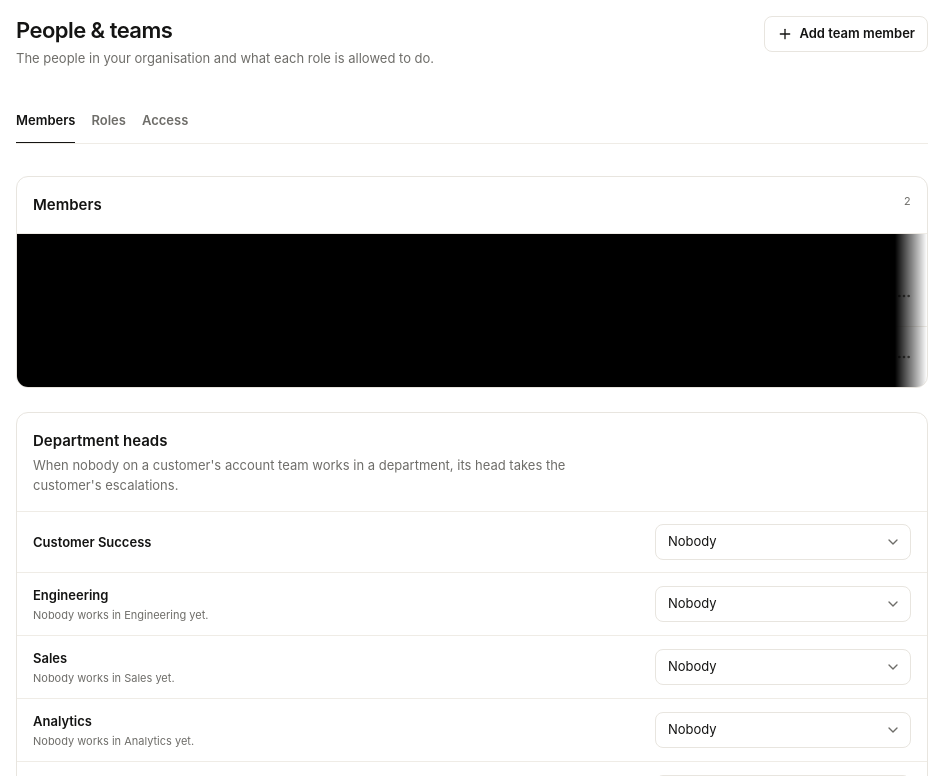
Test: UserManagement page › switches Members, Roles and Access with tabs under the heading
Click the tab "Roles". click: click(109, 122)
box: [92,100,126,144]
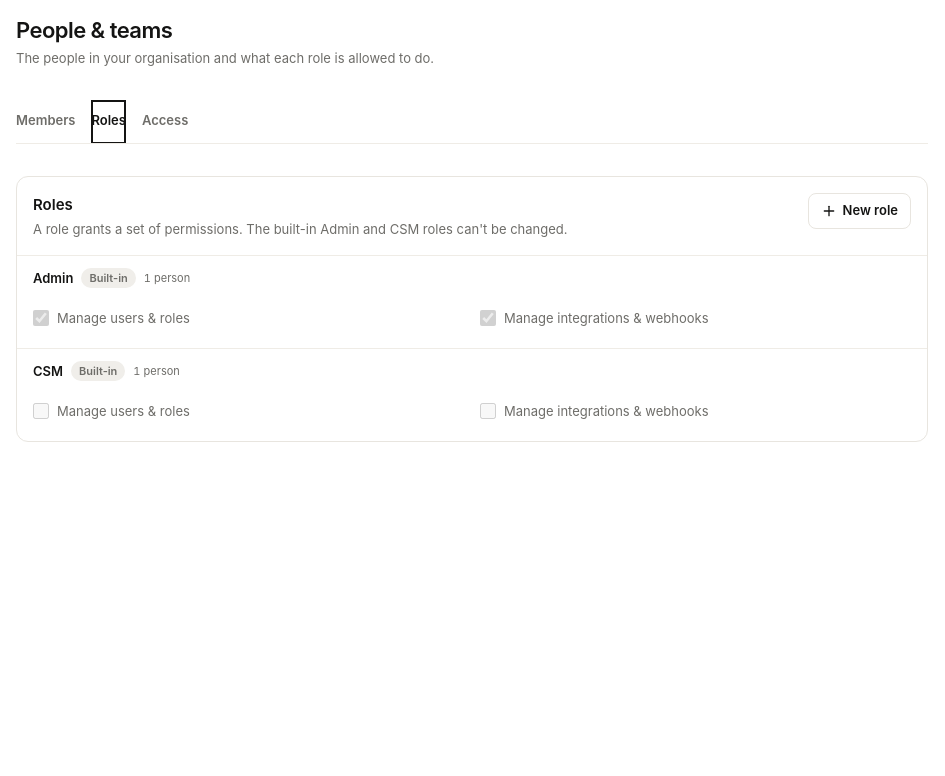
Check: the button "Add team member" is gone
